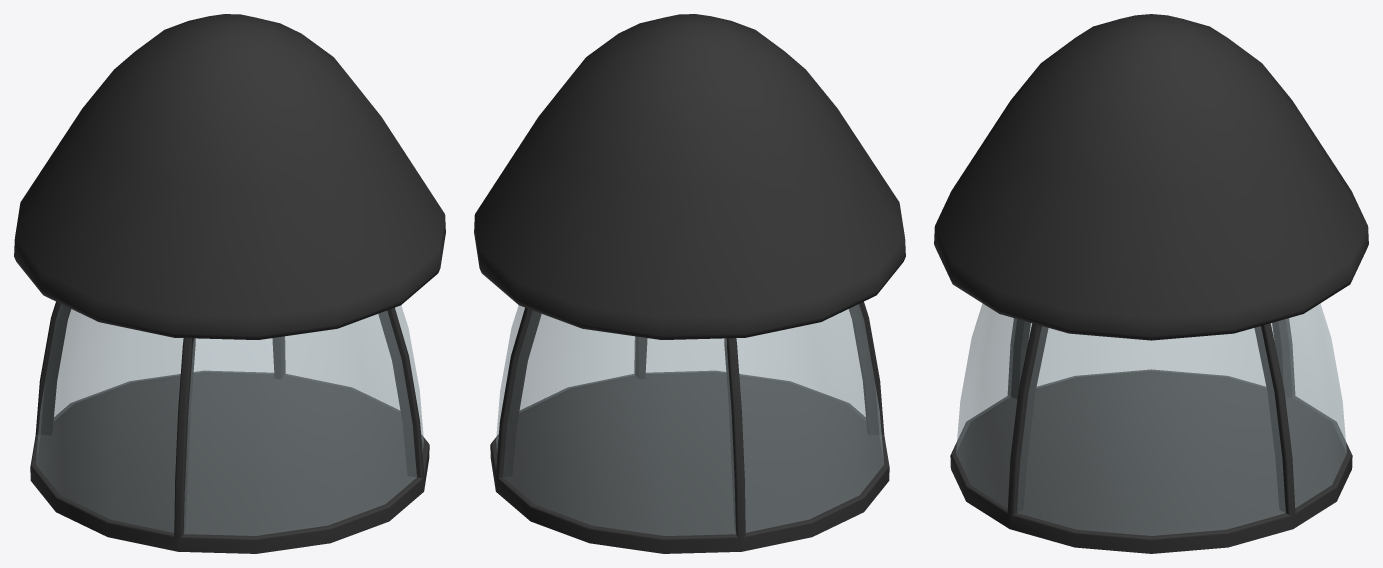
Rendered from faro_movil.fbx.
3 views of the same model, side by side, from view 1: azimuth 30°, elevation 25°; view 2: azimuth 150°, elevation 25°; view 3: azimuth 270°, elevation 25° (orthographic).
Visible parts, largest first — view 1: Faro_movil; view 2: Faro_movil; view 3: Faro_movil.
Boxes of the visible parts, bbox=[...] form: Faro_movil: bbox=[14, 14, 445, 553]; Faro_movil: bbox=[474, 14, 905, 553]; Faro_movil: bbox=[934, 14, 1368, 553].
Bounding box in the file's own units: 1083 × 1220 × 1083.
